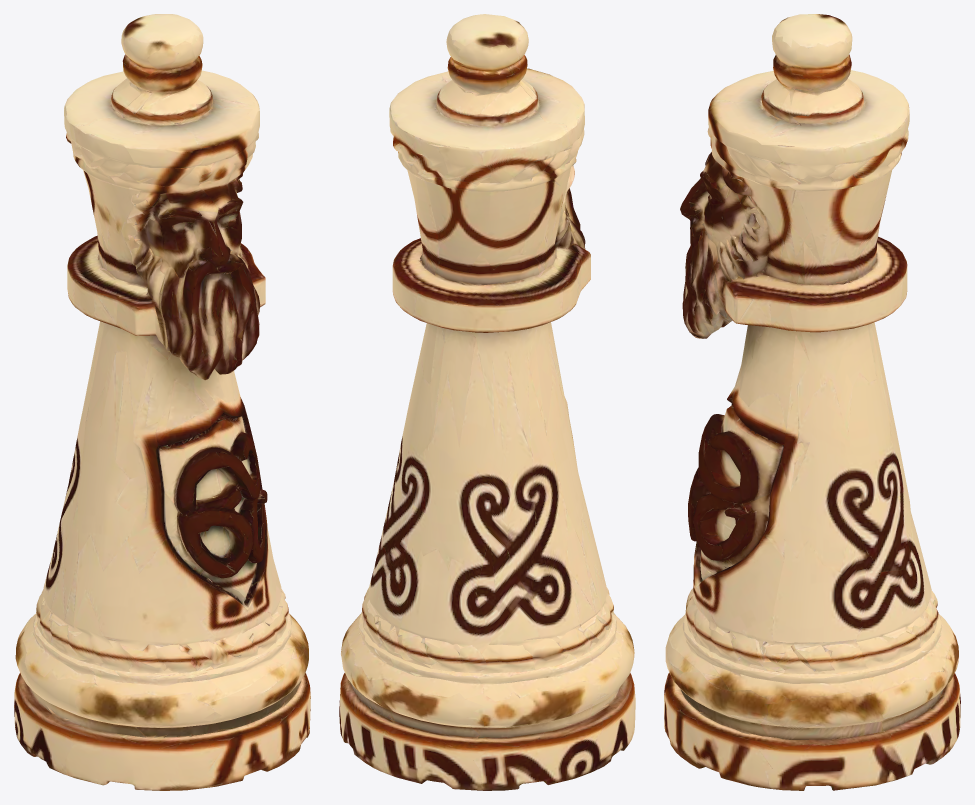
The model's file is piece-defender.glb.
3 renders of one model, left to right at view 1: azimuth 30°, elevation 25°; view 2: azimuth 150°, elevation 25°; view 3: azimuth 270°, elevation 25°, orthographic.
Size of the model in its own units: 0.7235 by 1.9 by 0.7241.
Materials: 1 (1 with a texture image).
